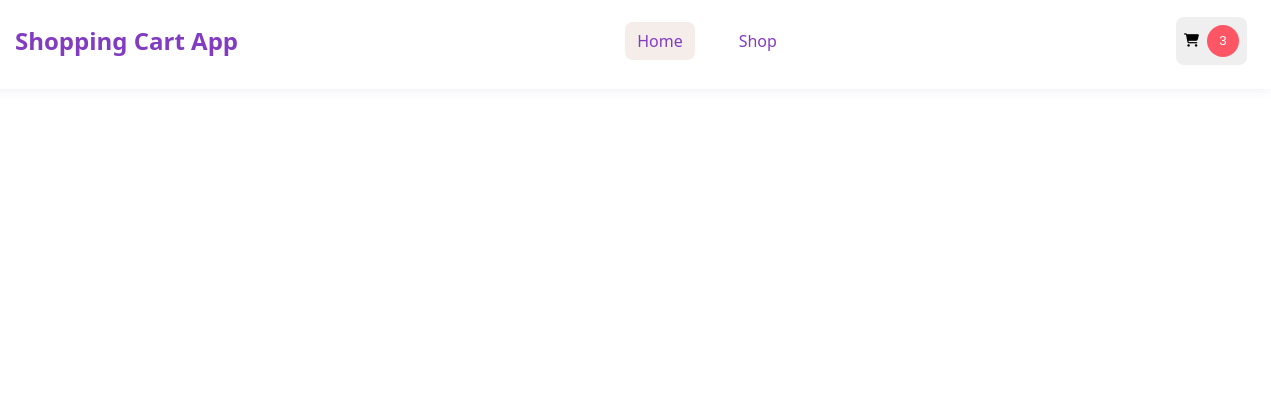
it: NavBar › toggles dropdown and displays cart items
The width and height of the screenshot is (1271, 412).
Click the button named "toggle cart dropdown" at (1212, 41), box [1176, 17, 1247, 65]
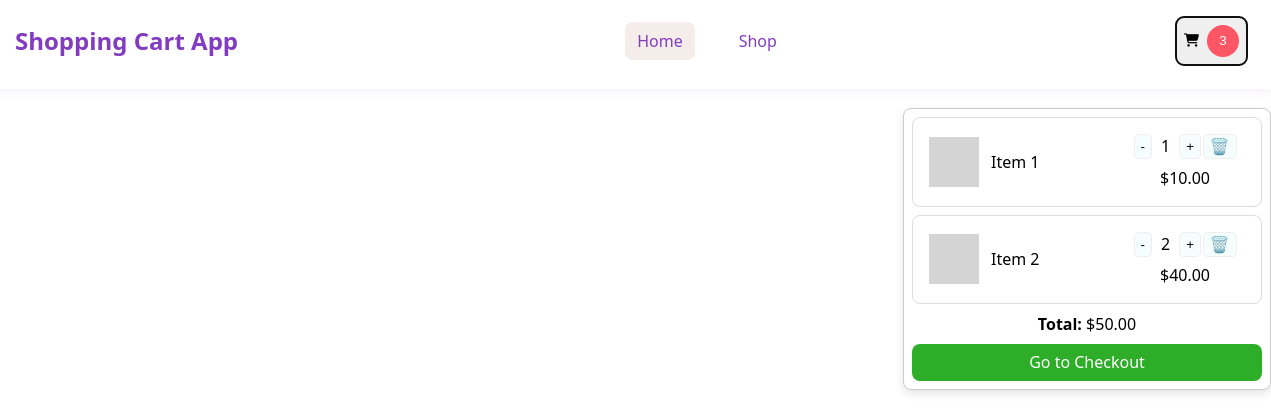
Expected: the text "Item 1" is shown, [991, 150, 1040, 174]
Expected: the text "$40.00" is shown, [1160, 263, 1210, 287]
Expected: the link "Go to Checkout" is shown, [912, 344, 1262, 381]
